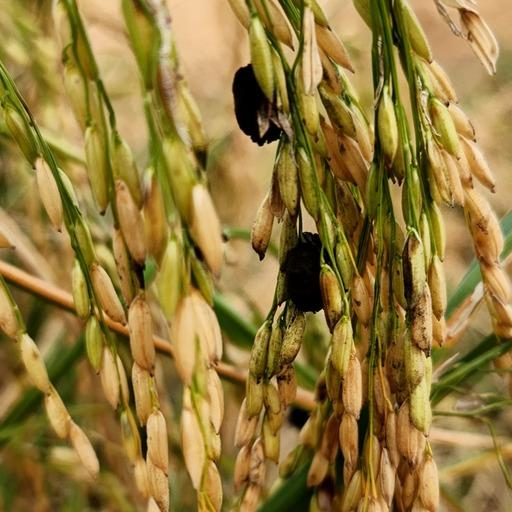Leaf_Scald: (224, 59, 289, 146), (272, 226, 328, 316)
